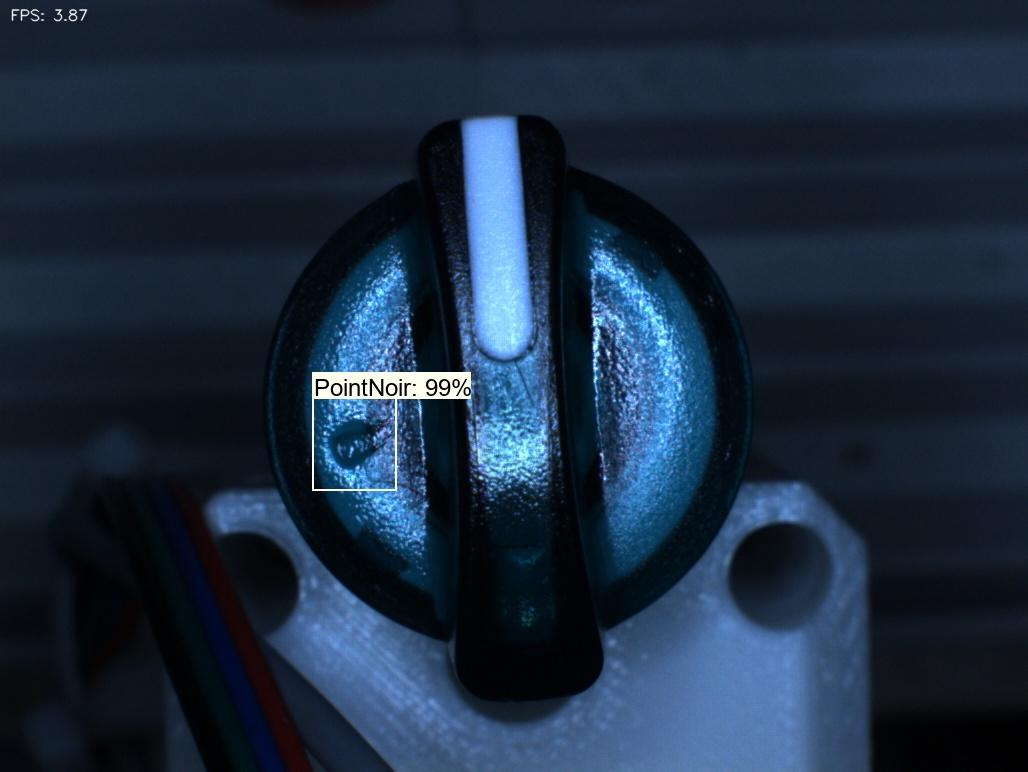Choc: (302, 396, 397, 486)
